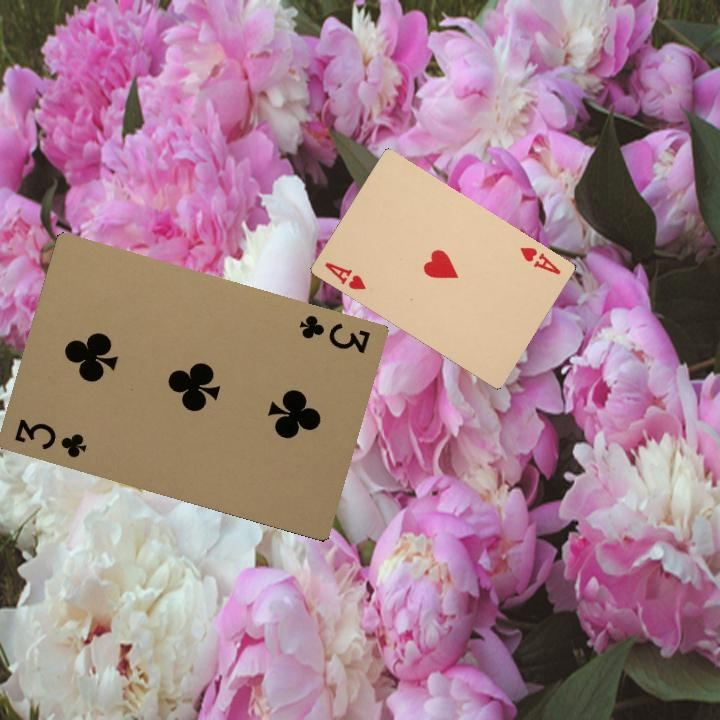3c: (10, 415, 89, 461), (295, 311, 373, 356)
Ah: (320, 258, 369, 292), (516, 243, 563, 277)
